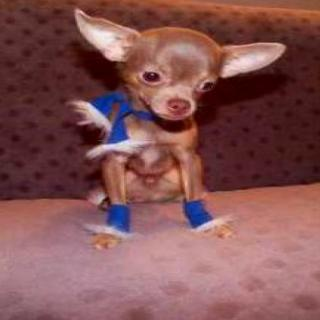dog: (75, 2, 294, 121)
nose: (165, 93, 193, 116)
